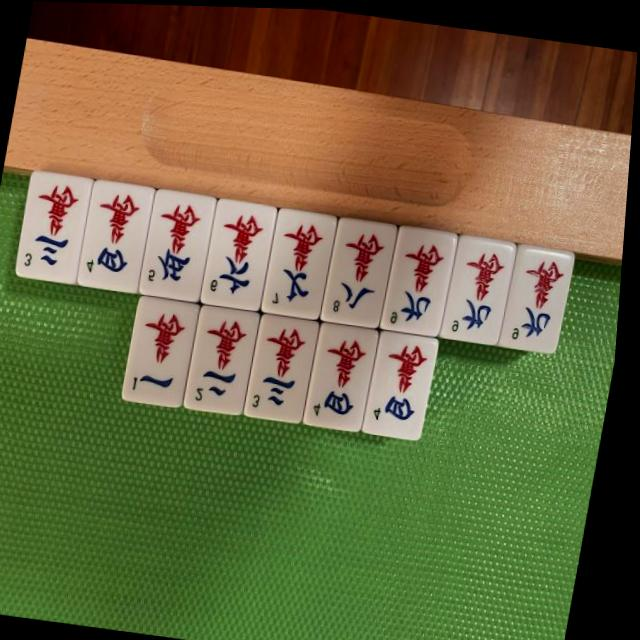sc1: (126, 294, 203, 406)
sc2: (186, 303, 264, 413)
sc3: (17, 171, 94, 281), (247, 310, 323, 419)
sc4: (80, 179, 156, 290), (367, 327, 443, 436), (307, 319, 383, 428)
sc5: (141, 188, 219, 300)
sc6: (202, 197, 280, 310)
sc7: (262, 206, 341, 318)
sc8: (323, 212, 401, 326)
sc9: (383, 220, 462, 334), (501, 240, 578, 349), (444, 231, 519, 341)
